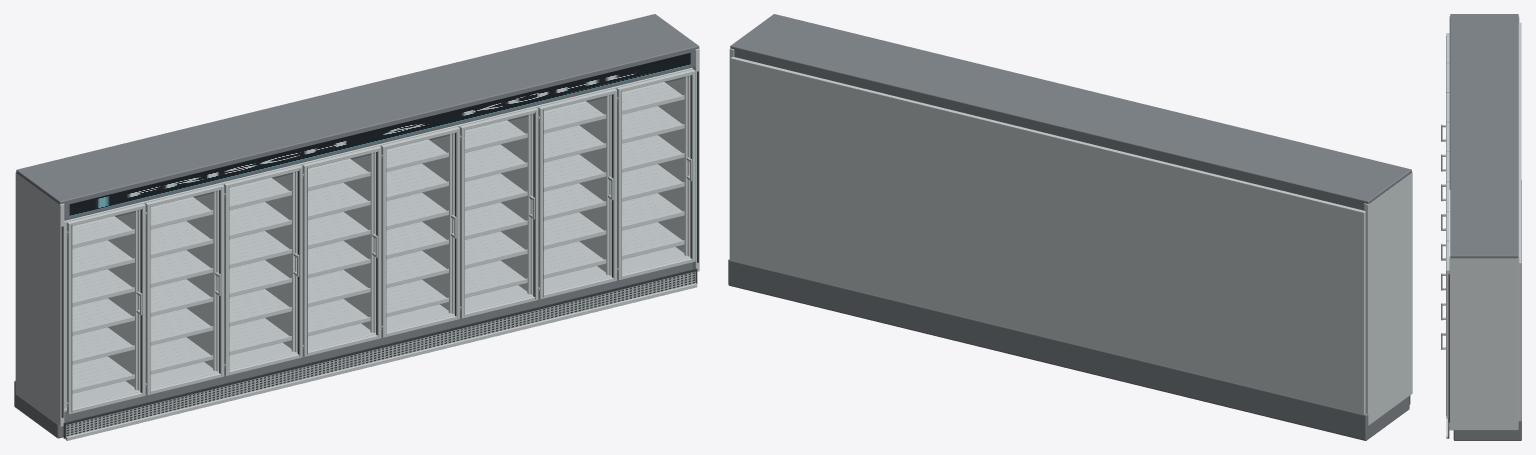
The model's file is Swiss_Glass_Door_Freezer_Chiller_Wall_8Doors.glb.
The picture shows the model from 3 angles, left to right: view 1: azimuth 30°, elevation 25°; view 2: azimuth 150°, elevation 25°; view 3: azimuth 270°, elevation 25°; orthographic projection. The views are drawn at different scales.
Parts seen in each view (by area): view 1: COOLER WALL | top dark graphite fascia, GLAZING | 7mm insulating glass pane | BAY_08, GLAZING | 7mm insulating glass pane | BAY_02, GLAZING | 7mm insulating glass pane | BAY_06, GLAZING | 7mm insulating glass pane | BAY_04, GLAZING | 7mm insulating glass pane | BAY_03, GLAZING | 7mm insulating glass pane | BAY_07, GLAZING | 7mm insulating glass pane | BAY_05, GLAZING | 7mm insulating glass pane | BAY_01, COOLER WALL | actual structural side shell.001, INTERIOR | actual load bearing metal shelf | SHELF_04 | BAY_ (×8), INTERIOR | actual load bearing metal shelf | SHELF_03 | BAY_ (×8) (+44 smaller); view 2: COOLER WALL | rear thermally insulated panel, COOLER WALL | top dark graphite fascia, COOLER WALL | lower compressor plinth, COOLER WALL | actual structural side shell.001; view 3: COOLER WALL | top dark graphite fascia, COOLER WALL | actual structural side shell, COOLER WALL | rear thermally insulated panel, COOLER WALL | lower compressor plinth, DOOR FRAME | anodised slim vertical stile | BAY_08.001, COOLER WALL | actual structural side shell.001, COOLER WALL | side-edge thermal gasket, DOOR FRAME | groove inside vertical profile | BAY_08.001, DOOR FRAME | anodized horizontal crossmember | BAY_01.001, DOOR FRAME | anodized horizontal crossmember | BAY_02.001, DOOR FRAME | anodized horizontal crossmember | BAY_04.001, DOOR FRAME | anodized horizontal crossmember | BAY_05.001 (+4 smaller).
Boxes of the visible parts, <box> form: COOLER WALL | top dark graphite fascia: <box>16,14,699,220</box>; GLAZING | 7mm insulating glass pane | BAY_08: <box>622,77,690,272</box>; GLAZING | 7mm insulating glass pane | BAY_02: <box>151,192,218,387</box>; GLAZING | 7mm insulating glass pane | BAY_06: <box>465,116,532,310</box>; GLAZING | 7mm insulating glass pane | BAY_04: <box>308,154,375,349</box>; GLAZING | 7mm insulating glass pane | BAY_03: <box>230,173,297,368</box>; GLAZING | 7mm insulating glass pane | BAY_07: <box>544,96,611,291</box>; GLAZING | 7mm insulating glass pane | BAY_05: <box>387,135,454,329</box>; GLAZING | 7mm insulating glass pane | BAY_01: <box>73,212,140,406</box>; COOLER WALL | actual structural side shell.001: <box>15,172,64,426</box>; INTERIOR | actual load bearing metal shelf | SHELF_04 | BAY_ (×8): <box>72,135,683,306</box>; INTERIOR | actual load bearing metal shelf | SHELF_03 | BAY_ (×8): <box>72,164,683,335</box>; COOLER WALL | rear thermally insulated panel: <box>730,57,1365,414</box>; COOLER WALL | top dark graphite fascia: <box>730,14,1411,210</box>; COOLER WALL | lower compressor plinth: <box>728,258,1409,440</box>; COOLER WALL | actual structural side shell.001: <box>1364,172,1412,425</box>; COOLER WALL | top dark graphite fascia: <box>1450,14,1518,258</box>; COOLER WALL | actual structural side shell: <box>1449,257,1519,430</box>; COOLER WALL | rear thermally insulated panel: <box>1518,22,1521,419</box>; COOLER WALL | lower compressor plinth: <box>1453,180,1521,440</box>; DOOR FRAME | anodised slim vertical stile | BAY_08.001: <box>1446,269,1449,418</box>; COOLER WALL | actual structural side shell.001: <box>1449,16,1519,189</box>; COOLER WALL | side-edge thermal gasket: <box>1448,274,1449,422</box>; DOOR FRAME | groove inside vertical profile | BAY_08.001: <box>1446,270,1446,415</box>; DOOR FRAME | anodized horizontal crossmember | BAY_01.001: <box>1446,33,1449,61</box>; DOOR FRAME | anodized horizontal crossmember | BAY_02.001: <box>1446,63,1449,91</box>; DOOR FRAME | anodized horizontal crossmember | BAY_04.001: <box>1446,122,1449,150</box>; DOOR FRAME | anodized horizontal crossmember | BAY_05.001: <box>1446,152,1449,180</box>.
Size of the model in its own units: 6.92 by 2.47 by 0.977.
11 materials, 1 textured.
